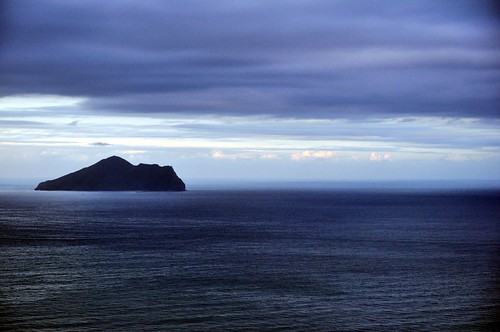turtleIsland: (33, 154, 186, 191)
